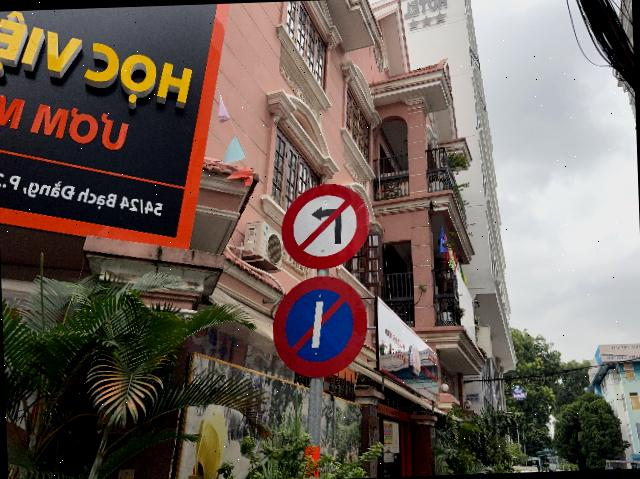cam-do-xe-ngay-le: (270, 274, 368, 380)
cam-re-phai: (280, 182, 372, 271)
